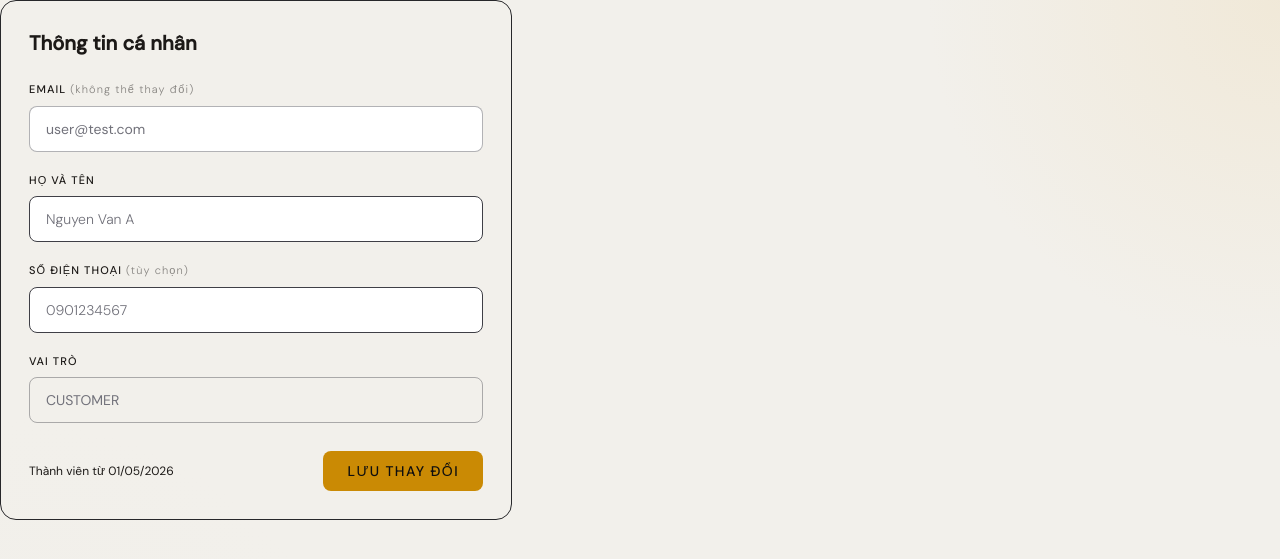
it: EditProfileForm › should show required error when full name is empty
Clear the field showing "Nguyen Van A" below "Họ và tên": (256, 219) [29,196,483,242]
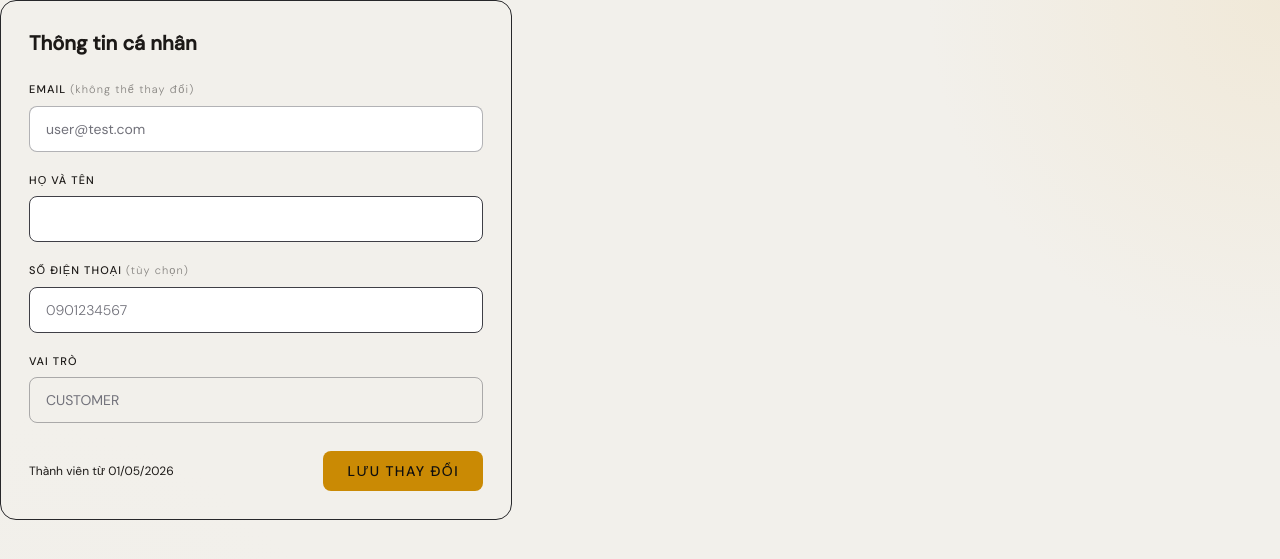
Submit the form, box [29,81,483,491]
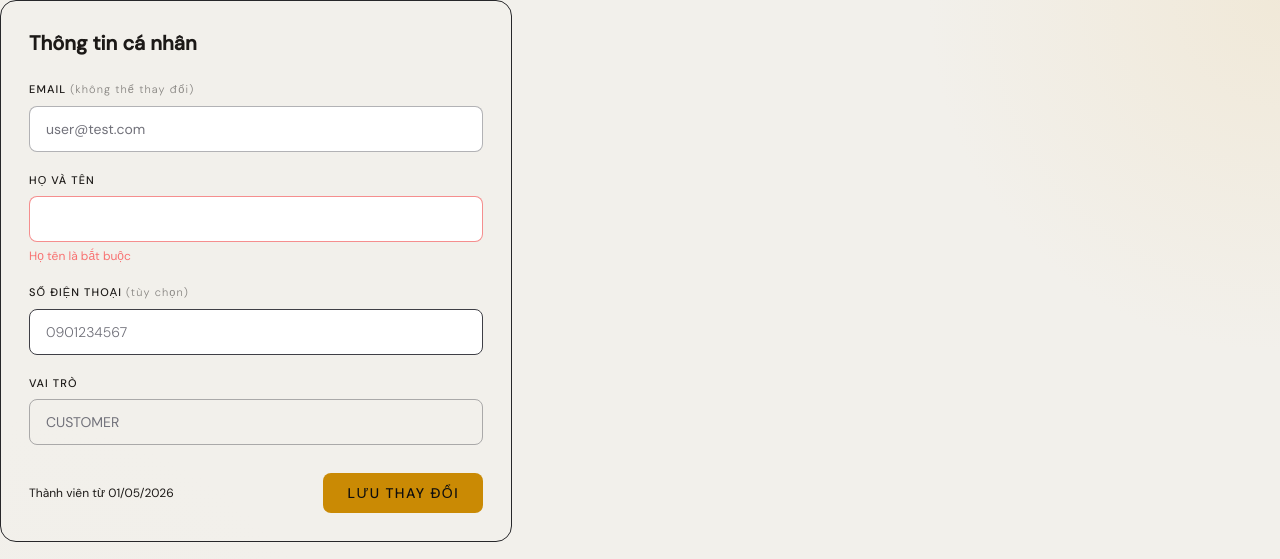
Expected: the text "Họ tên là bắt buộc" is shown, [29,248,131,264]
